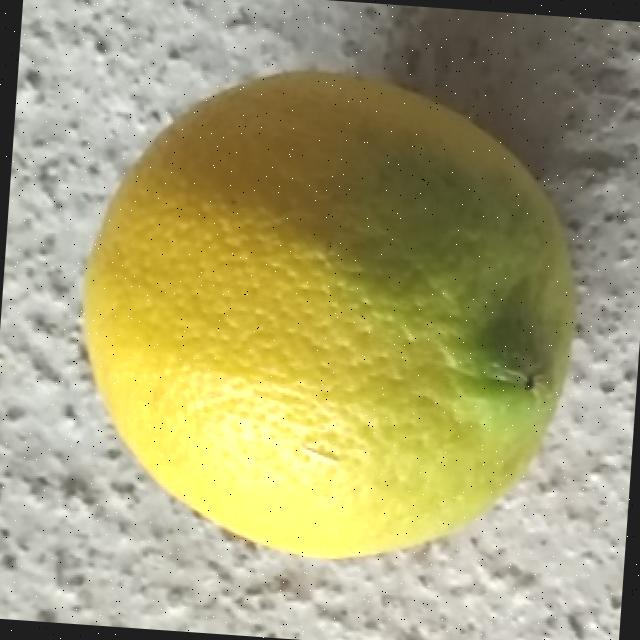Lemon: (62, 51, 595, 578)
